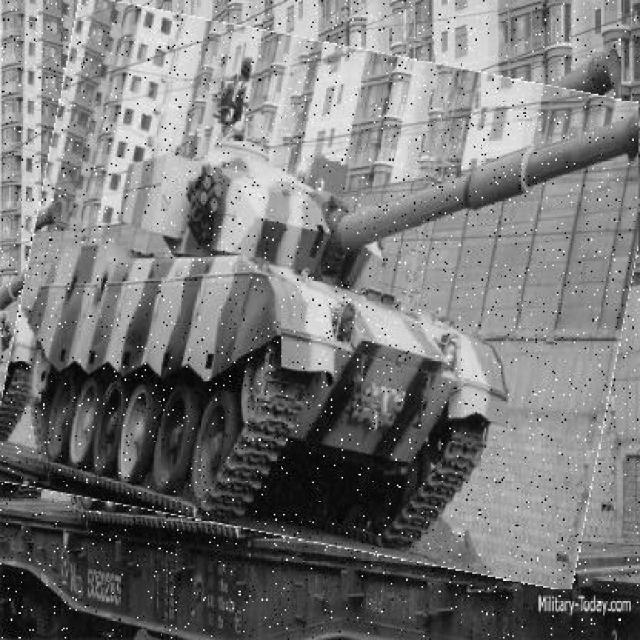Tank: (6, 21, 640, 566)
